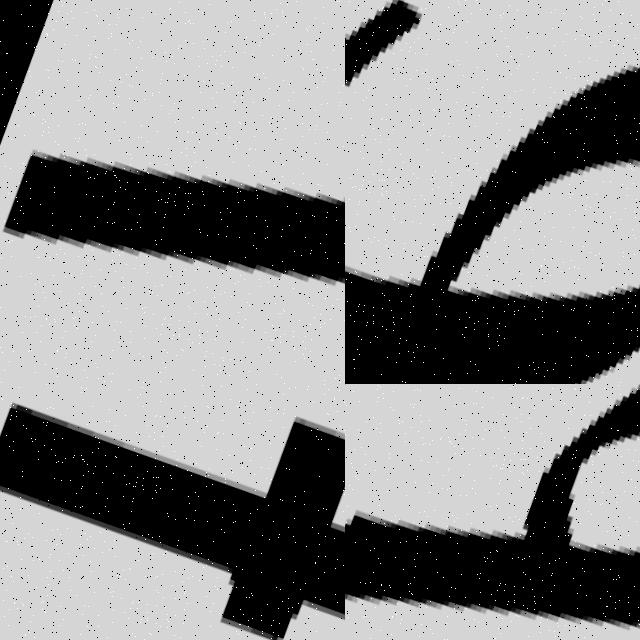E: (345, 72, 640, 384)
F: (0, 384, 345, 640)
L: (0, 42, 345, 384)
P: (345, 384, 640, 637)
